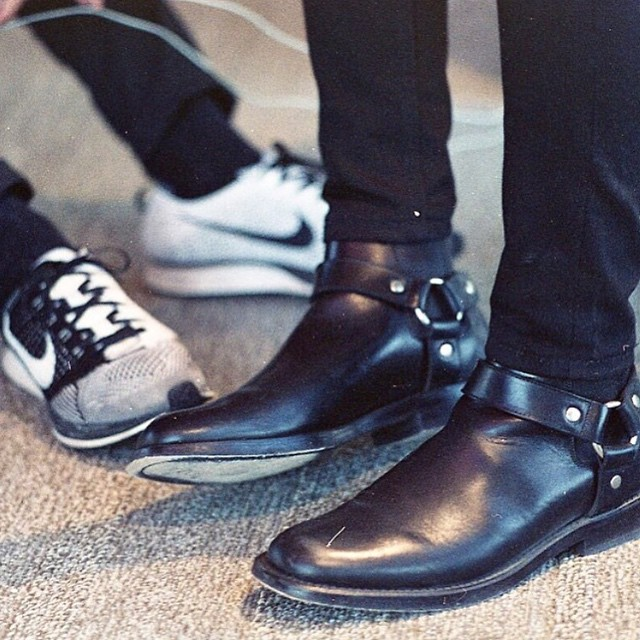sneaker: (230, 308, 640, 639), (111, 212, 509, 539), (1, 218, 231, 464), (124, 138, 341, 315)
